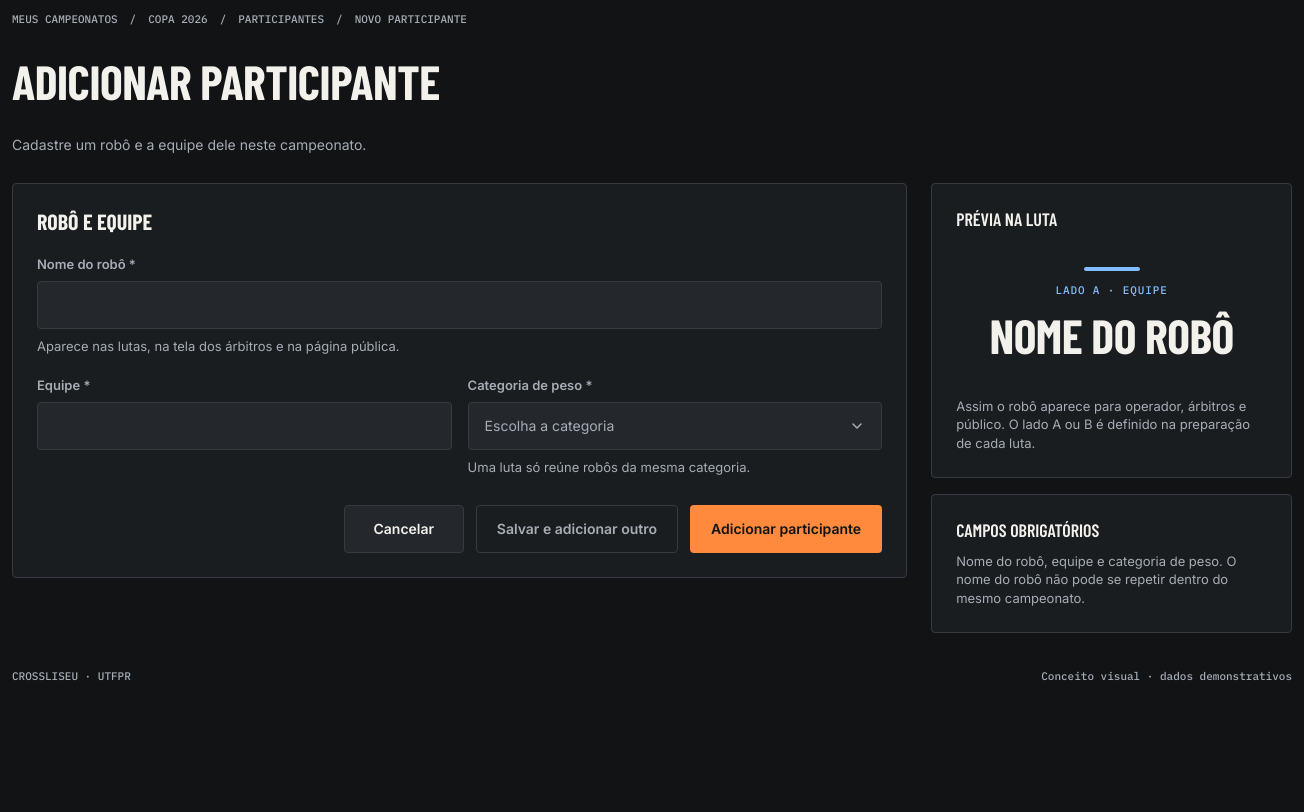
ParticipantFormView › create: "Salvar e adicionar outro" saves, clears the form and focuses the name
Type "Titã" into the field named "name" at (460, 305), box 37,281 -> 882,329
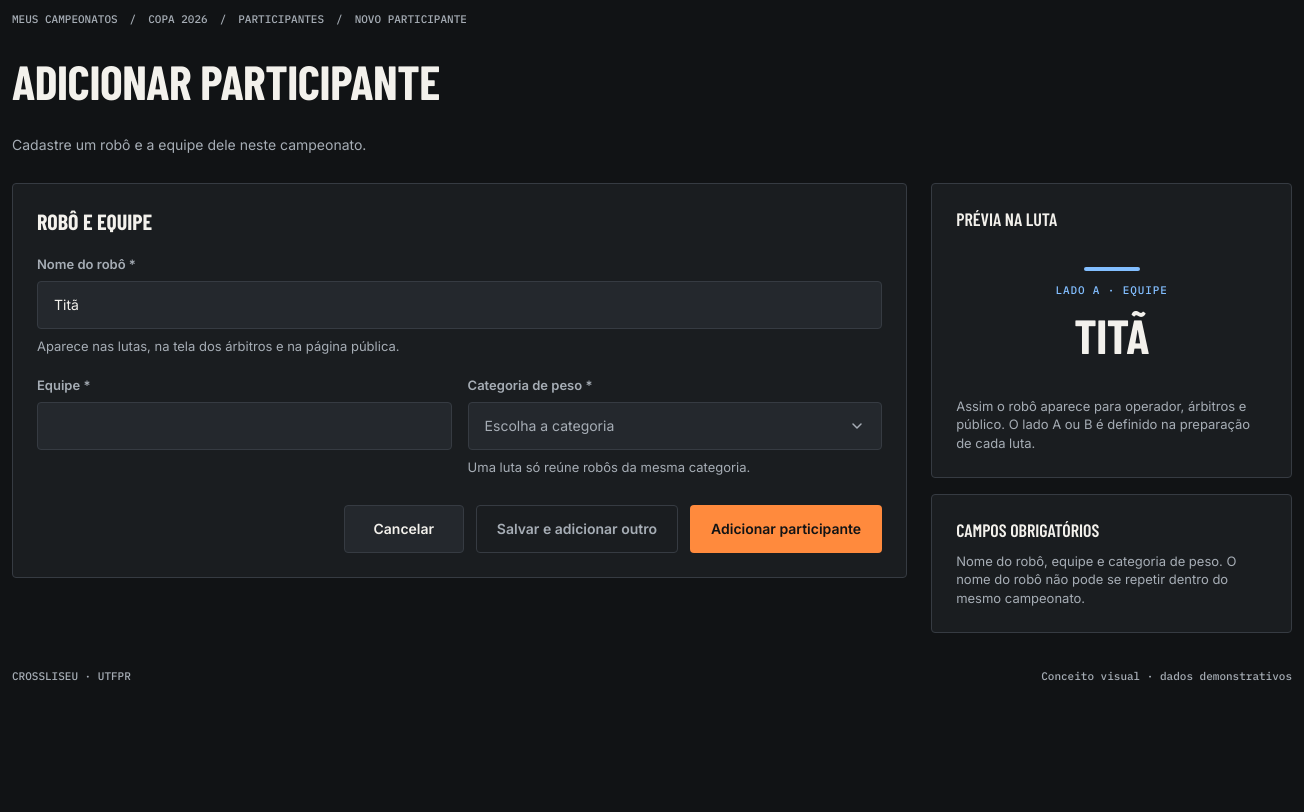
Type "Equipe Volt" into the field labelled "Equipe *" at (244, 426), box 37,402 -> 452,450
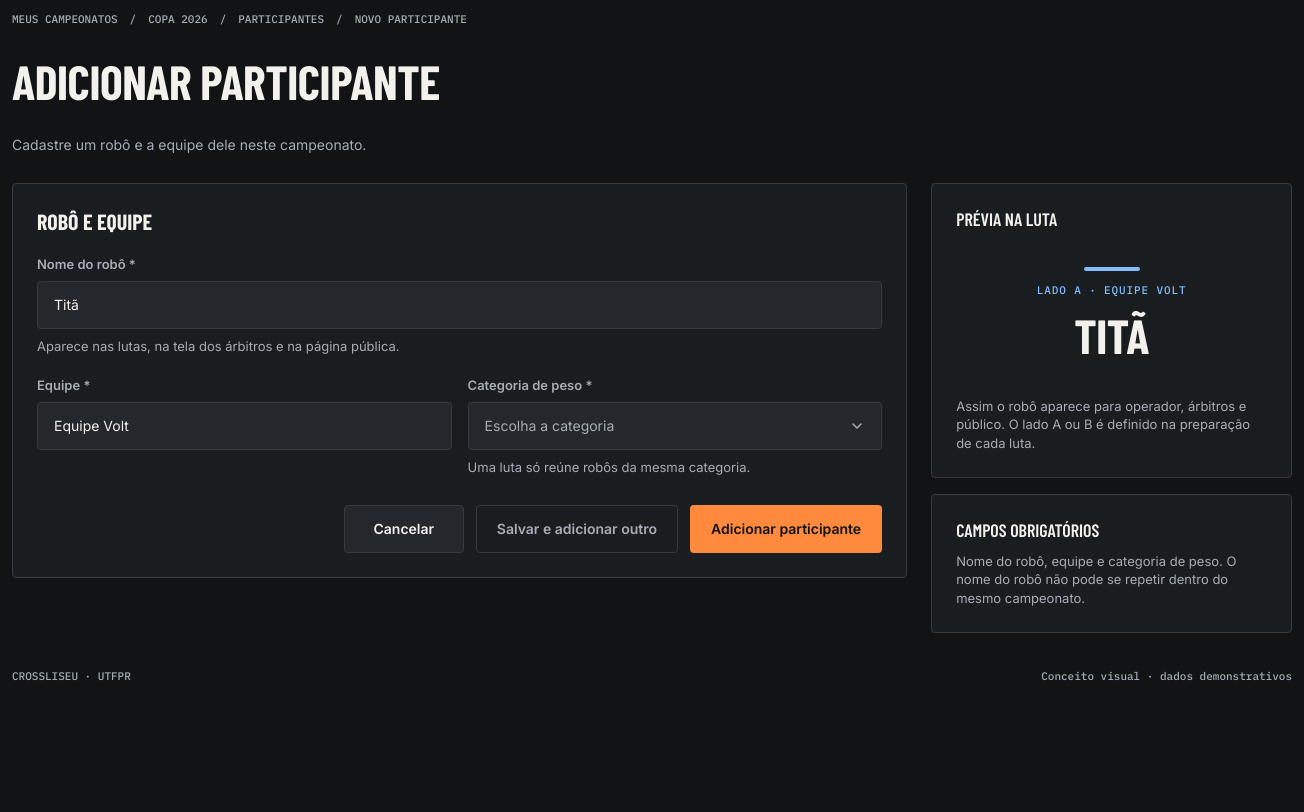
Click the dropdown labelled "Escolha a categoria" at (675, 426), box 468,402 -> 882,450
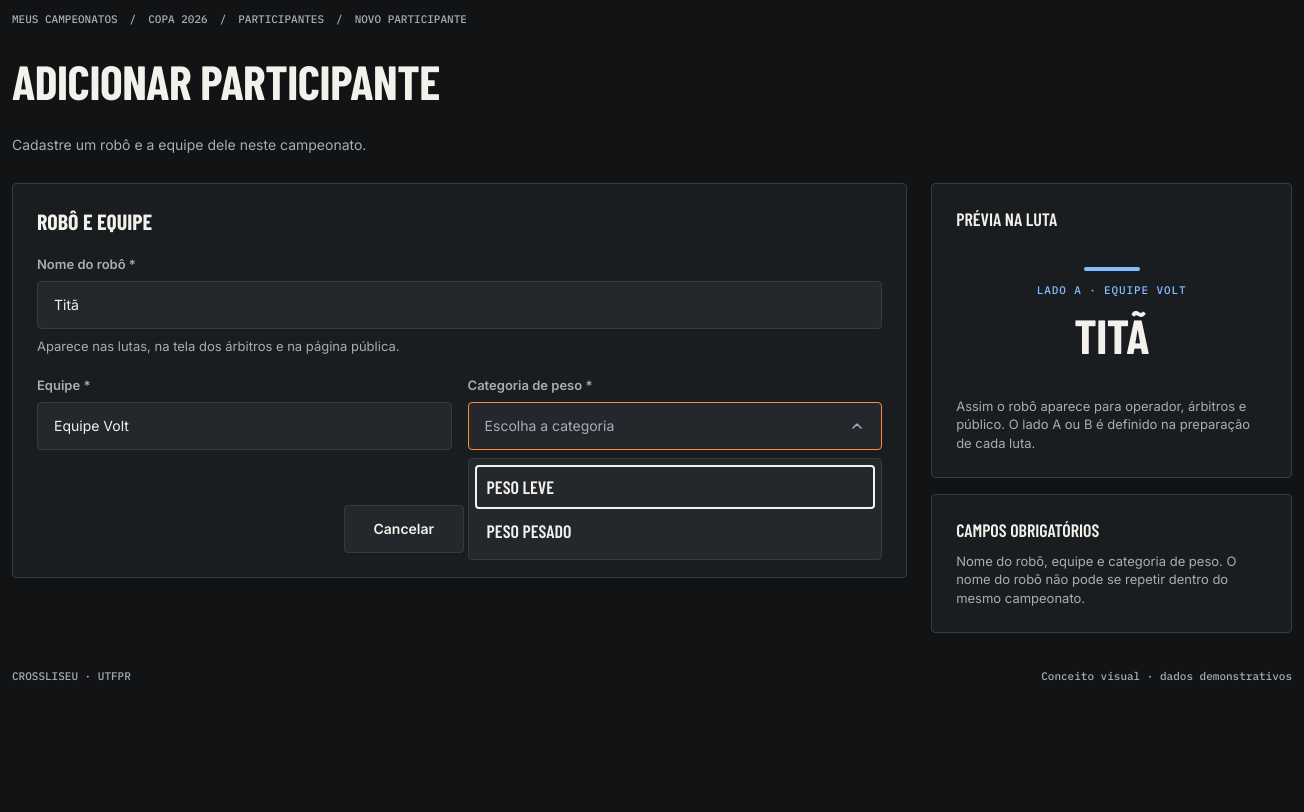
Click the option "Peso leve" at (520, 487), box 487,476 -> 554,498
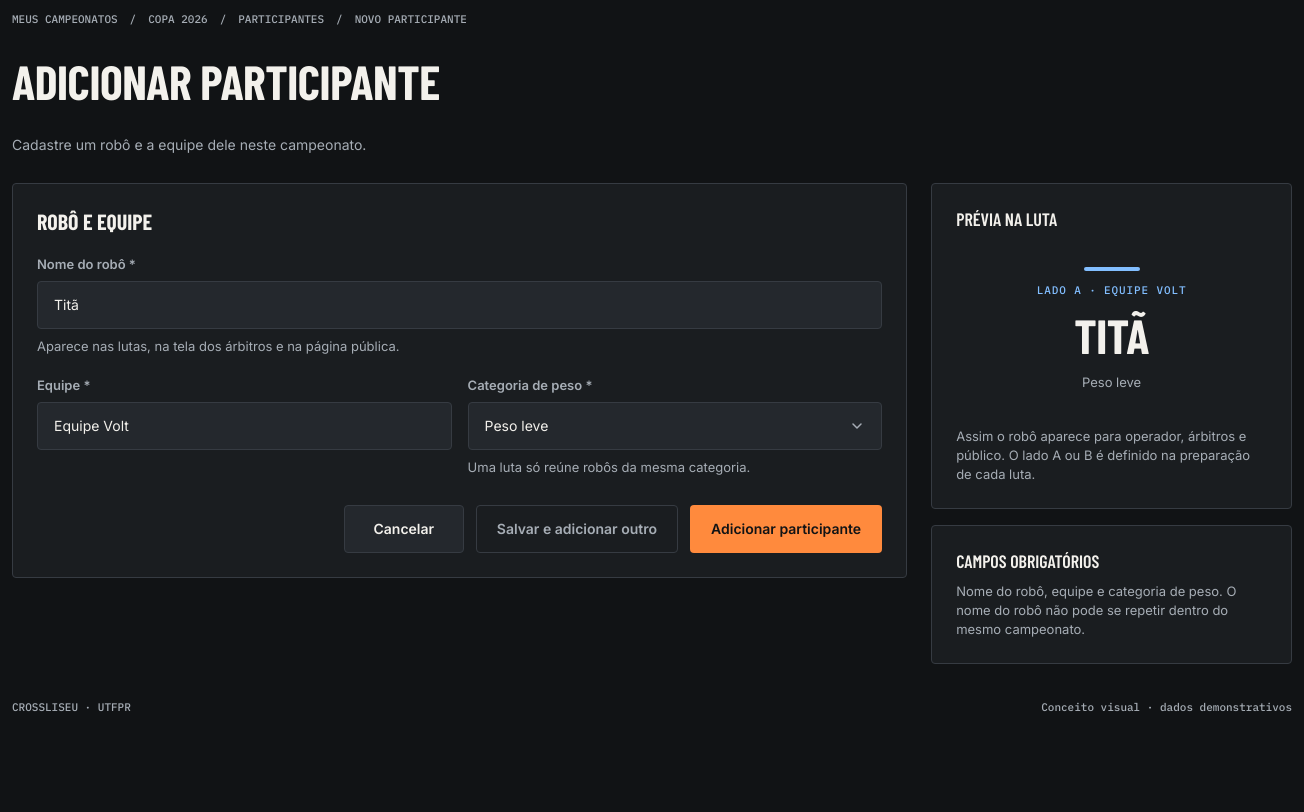
Click the button "Salvar e adicionar outro" at (577, 529), box 476,505 -> 678,553
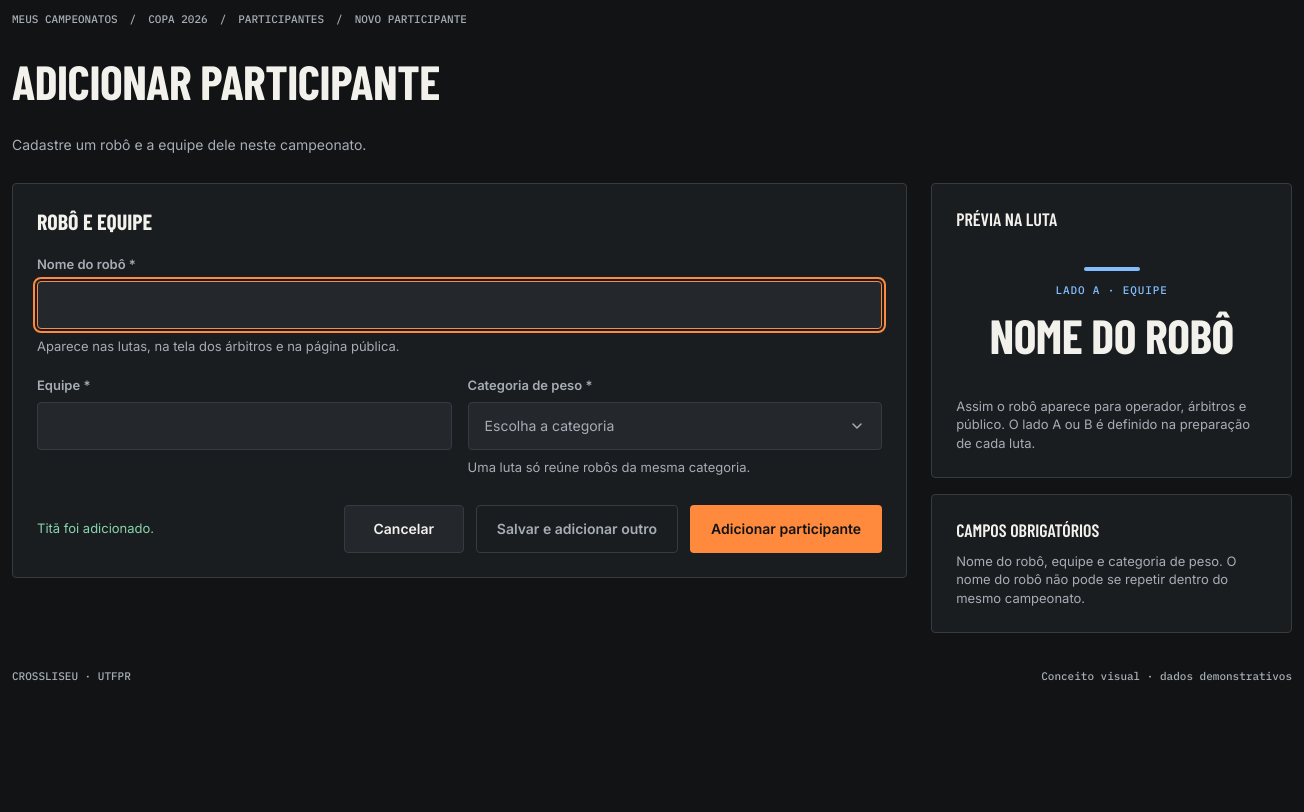
Result: the field named "name" is empty at 37,281 -> 882,329
Result: the dropdown labelled "Escolha a categoria" is shown at 468,402 -> 882,450
Result: the message "Titã foi adicionado." is shown at 37,519 -> 154,538
